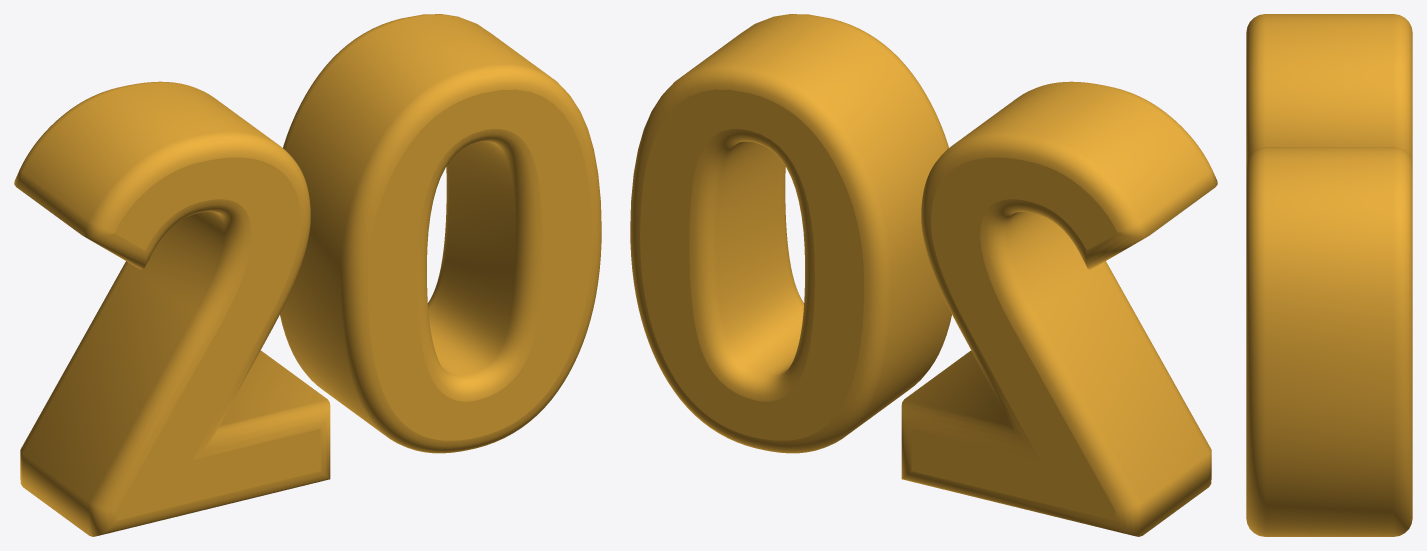
3 views of the same model, side by side, from view 1: azimuth 30°, elevation 25°; view 2: azimuth 150°, elevation 25°; view 3: azimuth 270°, elevation 25° (orthographic). The views are drawn at different scales.
Parts seen in each view (by area): view 1: Text; view 2: Text; view 3: Text.
Part boxes in pixels (x1,y1,x2,y2): Text: [14, 14, 601, 536]; Text: [630, 14, 1217, 536]; Text: [1246, 14, 1412, 536].
Bounding box in the file's own units: 89.9 × 63.03 × 26.
